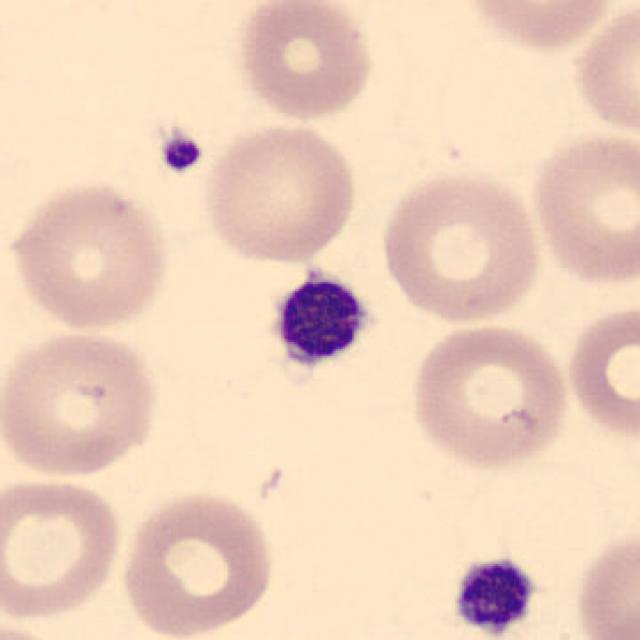Platelets: (254, 259, 382, 392), (446, 553, 540, 640), (156, 129, 206, 176)
RBC: (4, 175, 174, 335), (377, 168, 546, 326), (405, 318, 576, 472), (0, 328, 164, 481), (117, 487, 279, 638), (197, 118, 361, 266), (524, 125, 640, 289), (0, 472, 126, 622), (233, 0, 379, 123), (562, 298, 638, 448), (566, 4, 638, 140), (464, 0, 620, 55), (570, 523, 638, 640), (0, 615, 73, 640)
